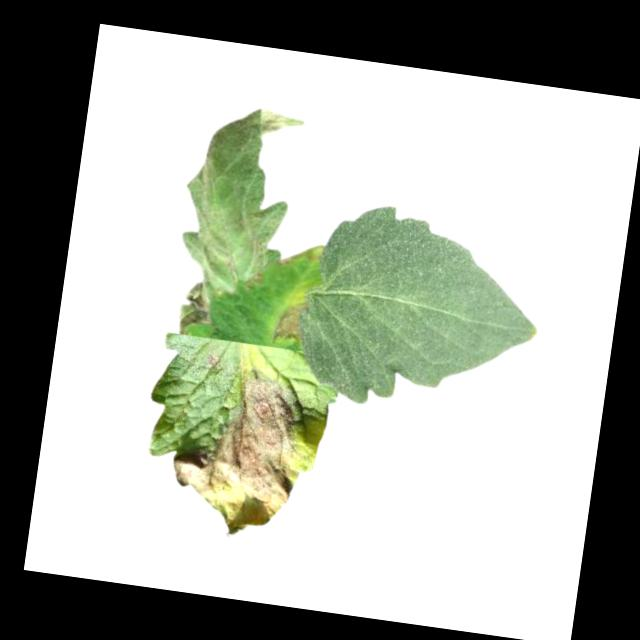Late_blight: (163, 359, 330, 548), (169, 99, 307, 304), (173, 280, 215, 337), (273, 294, 312, 344), (206, 350, 225, 373)
healthy: (288, 194, 555, 427)
